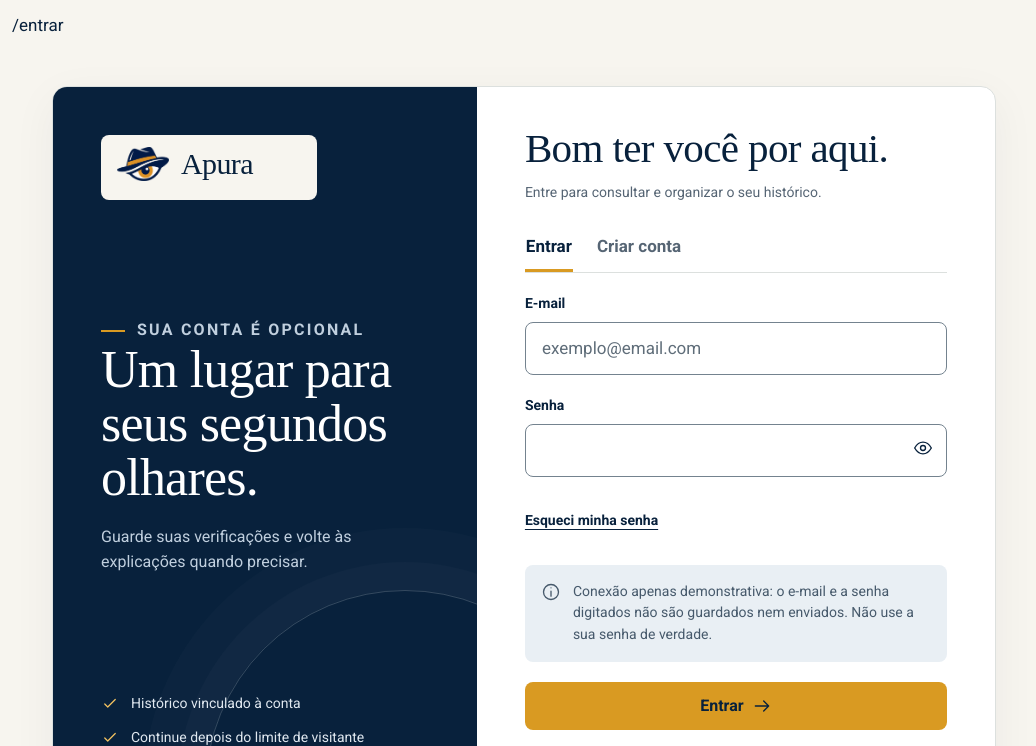
Test: entrar › formulário vazio: escreve o que falta nos dois campos e leva o foco ao primeiro
Click the button "Entrar": (736, 706) [525,682,947,730]
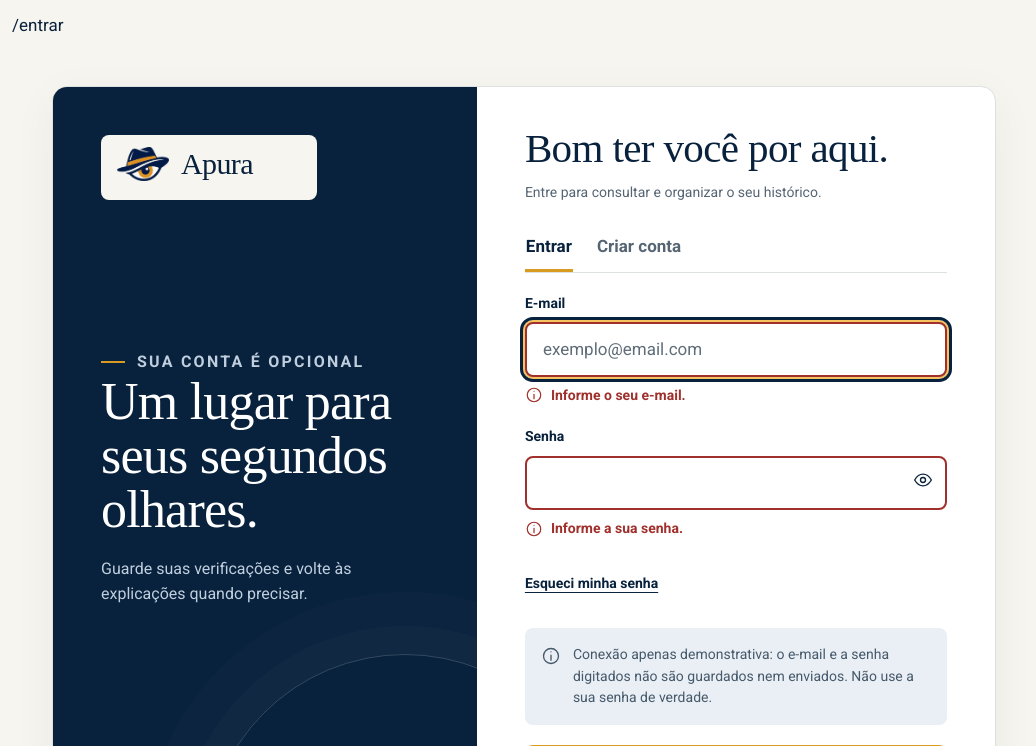
Check: the text "Informe o seu e-mail." is shown, box [551,385,686,406]
Check: the text "Informe a sua senha." is shown, box [551,518,683,540]
